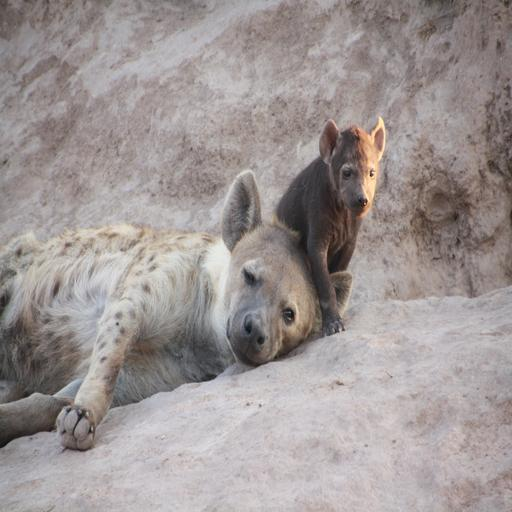Hyena: (0, 170, 356, 453), (231, 111, 388, 335)
